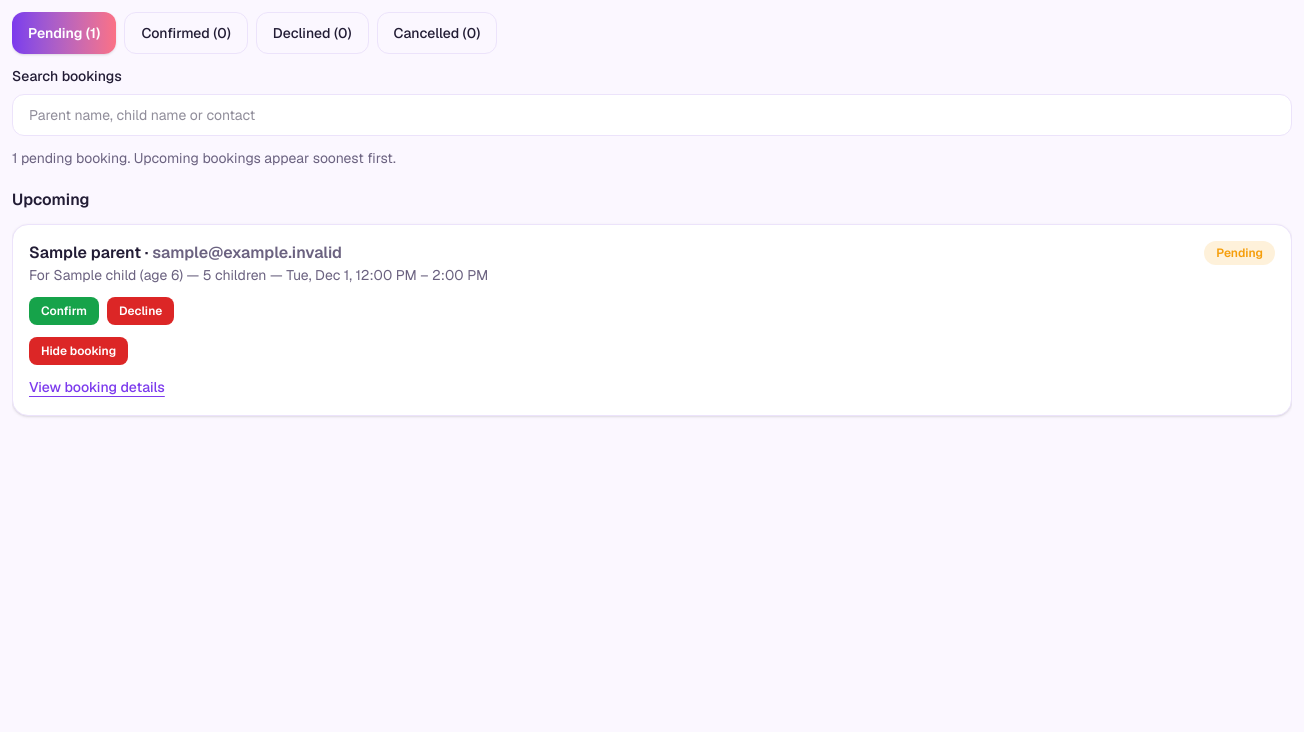
it: updates booking counts immediately and restores the old booking on failure
The image size is (1304, 732).
Click the button "Confirm" at (64, 311), box [29,297,99,325]
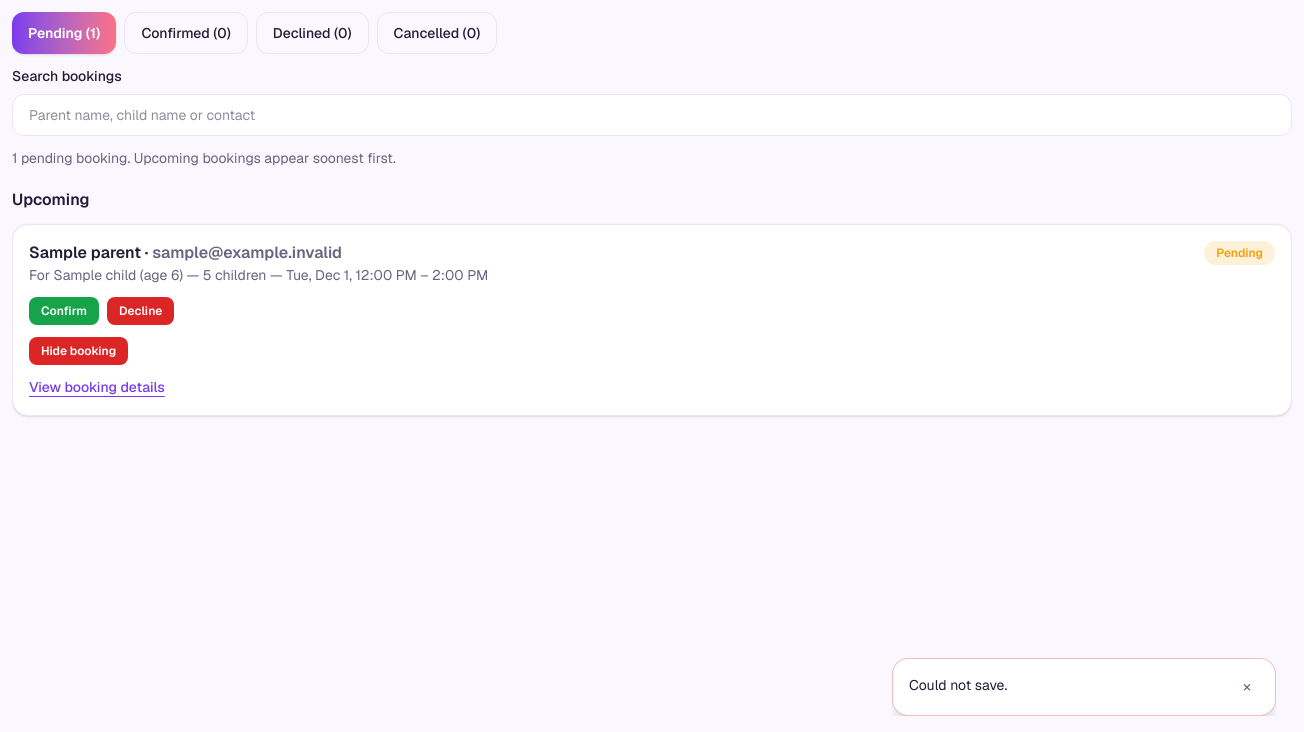
expect the button named "confirmed (1)" is shown: met, box [124,12,248,54]
expect the text "Could not save." is shown: met, box [909,676,1007,694]
